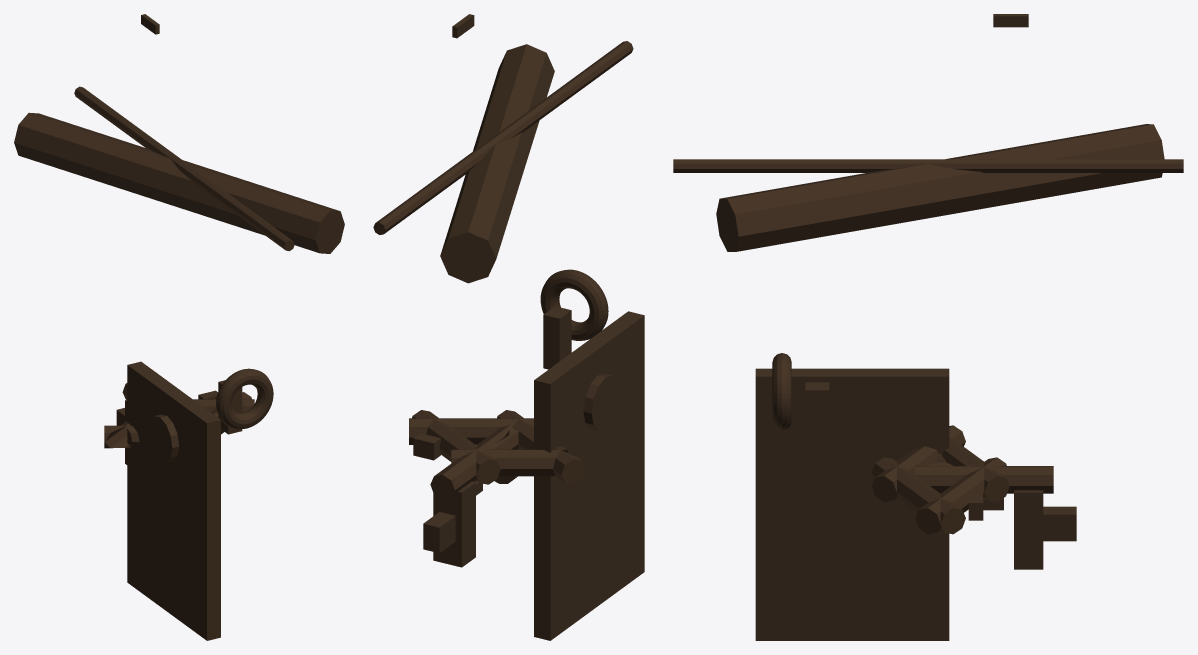
File: Remington_1875.obj
The picture shows the model from 3 angles, left to right: view 1: azimuth 30°, elevation 25°; view 2: azimuth 150°, elevation 25°; view 3: azimuth 270°, elevation 25°; orthographic projection. The views are drawn at different scales.
Visible parts, largest first — view 1: Remington_1875; view 2: Remington_1875; view 3: Remington_1875.
Part boxes in pixels (x1,y1,x2,y2): Remington_1875: (14,14,344,640); Remington_1875: (373,14,644,640); Remington_1875: (673,14,1183,640).
Size of the model in its own units: 0.0949 by 0.2935 by 0.21.
